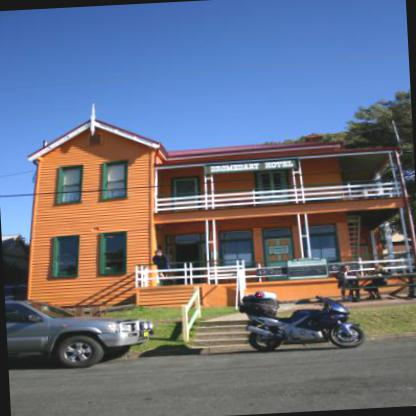motorcycle: (246, 296, 368, 356)
